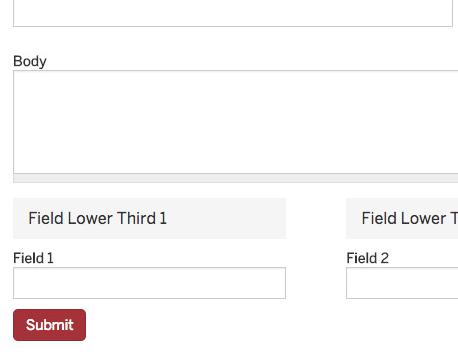button: (12, 308, 88, 342)
field: (12, 265, 287, 300)
field_with_label: (9, 251, 289, 303)
